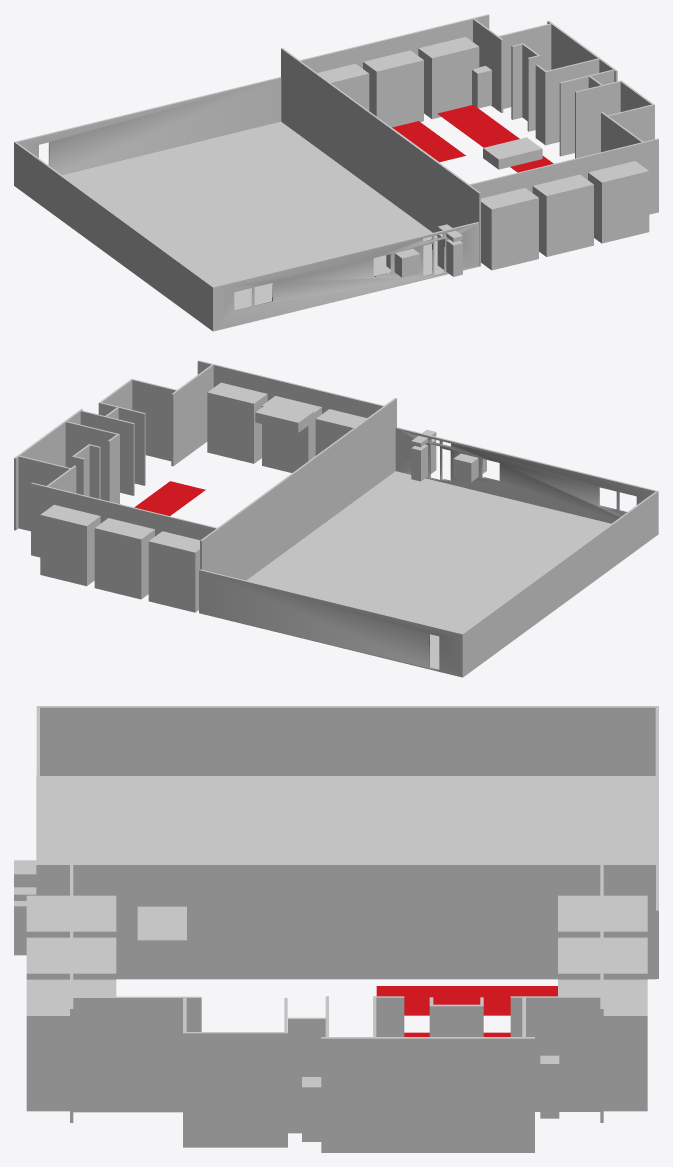
File: firestationv3_1.fbx
3 renders of one model, top to bottom at view 1: azimuth 30°, elevation 25°; view 2: azimuth 150°, elevation 25°; view 3: azimuth 270°, elevation 25°, orthographic. The views are drawn at different scales.
Visible parts, largest first — view 1: Plane.002, exterior wall.001, exterior wall.005, exterior wall.006, exterior wall, Cube, Cube.002, Cube.001, exterior wall.004, Cube.005, Cube.007, exterior wall.003 (+20 smaller); view 2: Plane.002, exterior wall.001, exterior wall.005, exterior wall, exterior wall.006, Cube.007, Cube.005, Cube.002, exterior wall.003, Cube.003, exterior wall.004, exterior wall.007 (+16 smaller); view 3: exterior wall.001, Plane.002, exterior wall, exterior wall.002, exterior wall.007, exterior wall.008, exterior wall.014, Cube.007, Cube.002, Cube, Cube.001, Cube.003 (+13 smaller).
Part boxes in pixels (bbox=[...]): Plane.002: bbox=[17, 121, 478, 331]; exterior wall.001: bbox=[281, 48, 480, 266]; exterior wall.005: bbox=[14, 77, 281, 185]; exterior wall.006: bbox=[212, 222, 478, 331]; exterior wall: bbox=[15, 142, 213, 330]; Cube: bbox=[481, 188, 538, 270]; Cube.002: bbox=[588, 161, 649, 243]; Cube.001: bbox=[532, 174, 593, 256]; exterior wall.004: bbox=[469, 138, 658, 214]; Cube.005: bbox=[363, 50, 423, 128]; Cube.007: bbox=[418, 37, 479, 119]; exterior wall.003: bbox=[300, 14, 489, 72]; Plane.002: bbox=[246, 471, 658, 676]; exterior wall.001: bbox=[200, 398, 396, 580]; exterior wall.005: bbox=[199, 569, 463, 677]; exterior wall: bbox=[462, 491, 657, 676]; exterior wall.006: bbox=[395, 427, 658, 534]; Cube.007: bbox=[40, 504, 100, 586]; Cube.005: bbox=[94, 518, 154, 599]; Cube.002: bbox=[207, 382, 267, 463]; exterior wall.003: bbox=[31, 482, 217, 557]; Cube.003: bbox=[148, 531, 199, 612]; exterior wall.004: bbox=[197, 360, 383, 417]; exterior wall.007: bbox=[171, 364, 213, 466]; exterior wall.001: bbox=[36, 863, 655, 978]; Plane.002: bbox=[36, 775, 656, 979]; exterior wall: bbox=[38, 706, 655, 775]; exterior wall.002: bbox=[321, 1037, 534, 1152]; exterior wall.007: bbox=[73, 996, 201, 1112]; exterior wall.008: bbox=[183, 1032, 287, 1147]; exterior wall.014: bbox=[510, 996, 600, 1111]; Cube.007: bbox=[558, 979, 647, 1111]; Cube.002: bbox=[26, 979, 116, 1111]; Cube: bbox=[26, 895, 116, 937]; Cube.001: bbox=[26, 937, 116, 979]; Cube.003: bbox=[558, 895, 647, 937].
Bounding box in the file's own units: 3627 × 539 × 2614.
